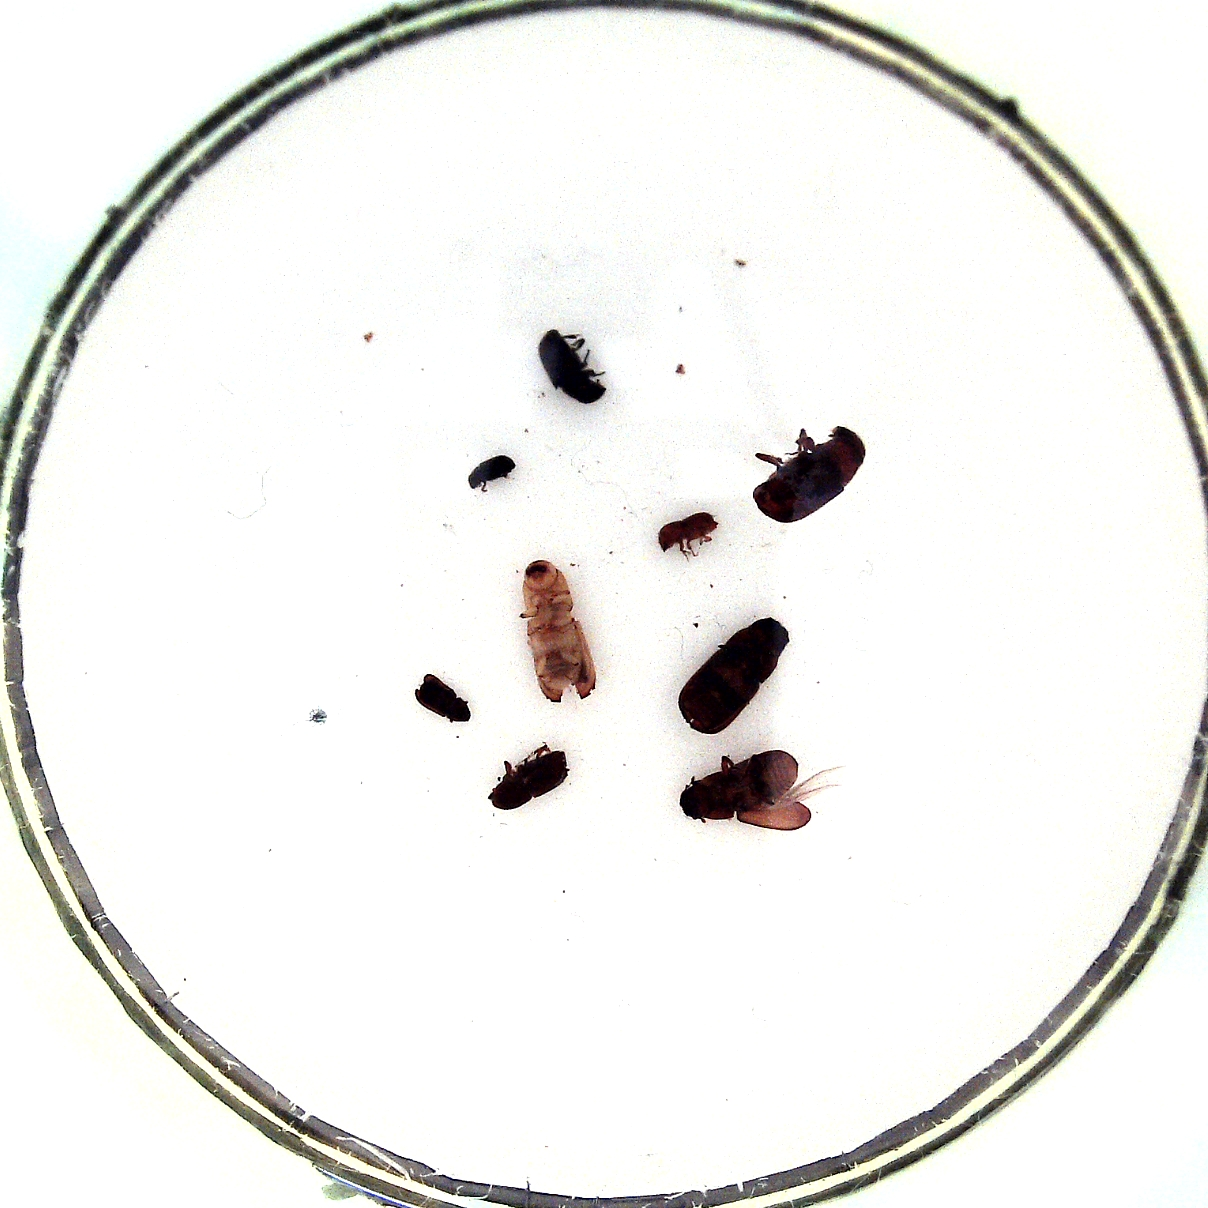Boerner: (521, 559, 596, 702)
Leconte: (678, 617, 789, 735), (752, 425, 866, 523), (679, 749, 798, 819)
acuminatus: (468, 455, 517, 489)
armandi: (538, 329, 607, 404)
coleoptera: (415, 674, 470, 723), (658, 511, 717, 551)
linnaeus: (489, 750, 569, 809)
